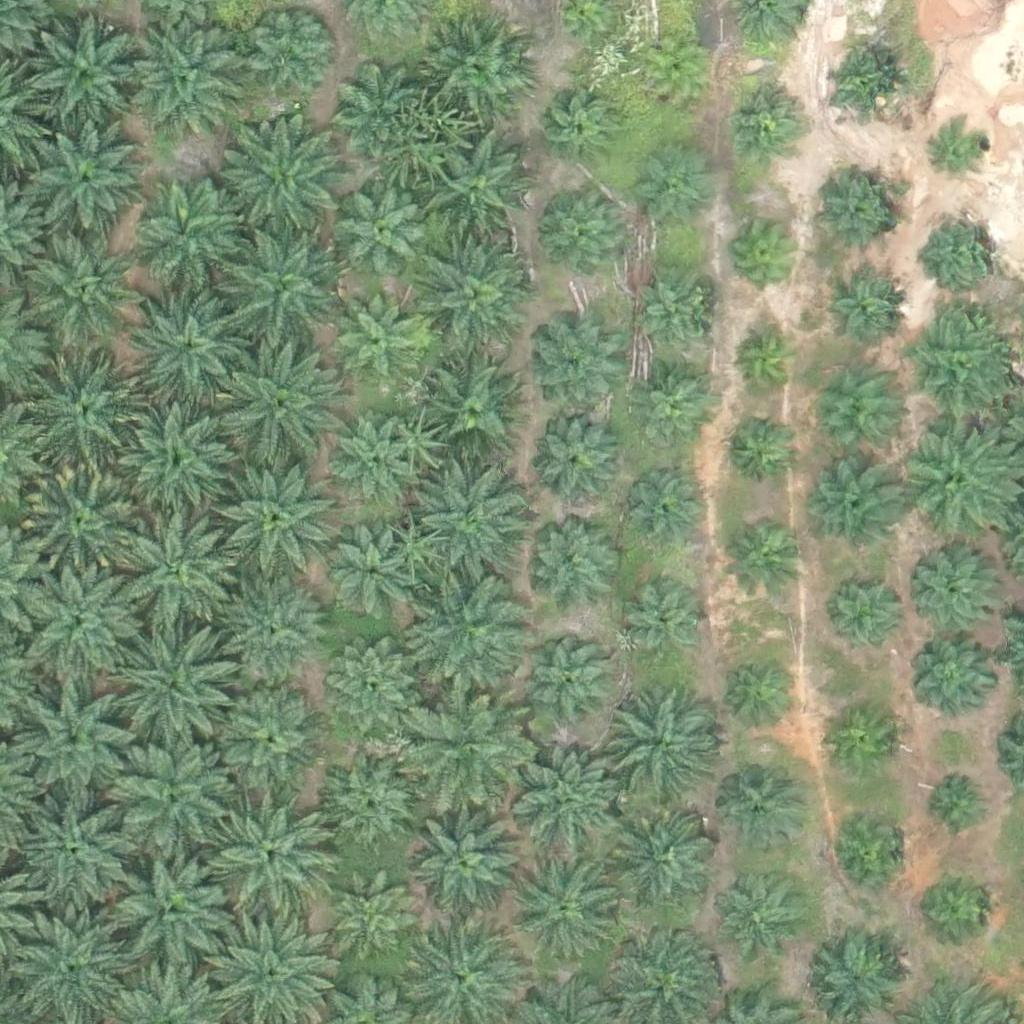Kelapa_Sawit: (214, 784, 339, 910), (108, 844, 233, 970), (20, 789, 145, 915), (896, 412, 1021, 538), (600, 685, 725, 811), (504, 733, 629, 859), (226, 228, 351, 354), (218, 340, 343, 466), (217, 454, 342, 580), (109, 614, 234, 740), (109, 498, 234, 624), (110, 393, 235, 519), (126, 281, 251, 407), (127, 8, 252, 134), (21, 12, 146, 138), (18, 122, 143, 248), (11, 458, 136, 584), (16, 683, 141, 809), (222, 123, 347, 248), (109, 733, 234, 858), (20, 348, 145, 473), (421, 244, 534, 357), (406, 578, 519, 691), (410, 698, 523, 811), (218, 582, 331, 695), (25, 555, 138, 668), (413, 463, 525, 577), (407, 805, 519, 918), (903, 312, 1015, 425), (213, 683, 325, 796), (910, 537, 1010, 638), (430, 143, 530, 244), (421, 355, 521, 456), (32, 239, 132, 340), (605, 808, 705, 908), (514, 856, 614, 956), (324, 861, 424, 961), (802, 368, 902, 468), (424, 20, 524, 120), (317, 634, 417, 734), (139, 182, 239, 282), (816, 173, 904, 261), (714, 870, 802, 958), (908, 631, 996, 719), (628, 366, 716, 454), (625, 583, 713, 671), (534, 323, 622, 411), (531, 412, 619, 500), (528, 640, 616, 728), (327, 753, 415, 841), (331, 535, 419, 623), (341, 190, 429, 278), (247, 6, 335, 94), (540, 192, 627, 281), (820, 270, 907, 358), (811, 458, 898, 546), (627, 274, 714, 362), (619, 468, 706, 556), (525, 523, 612, 611), (714, 763, 801, 851), (328, 411, 415, 499), (333, 296, 420, 384), (332, 63, 419, 151), (824, 48, 899, 124), (727, 523, 802, 599), (722, 412, 797, 488), (728, 324, 803, 400), (926, 211, 1001, 287), (827, 815, 902, 891), (541, 91, 616, 166), (638, 155, 713, 230), (725, 82, 800, 157), (731, 215, 806, 290), (724, 659, 799, 734), (824, 699, 899, 774), (833, 579, 908, 654), (915, 873, 990, 948), (642, 39, 705, 102), (931, 120, 993, 183), (925, 769, 987, 832)
